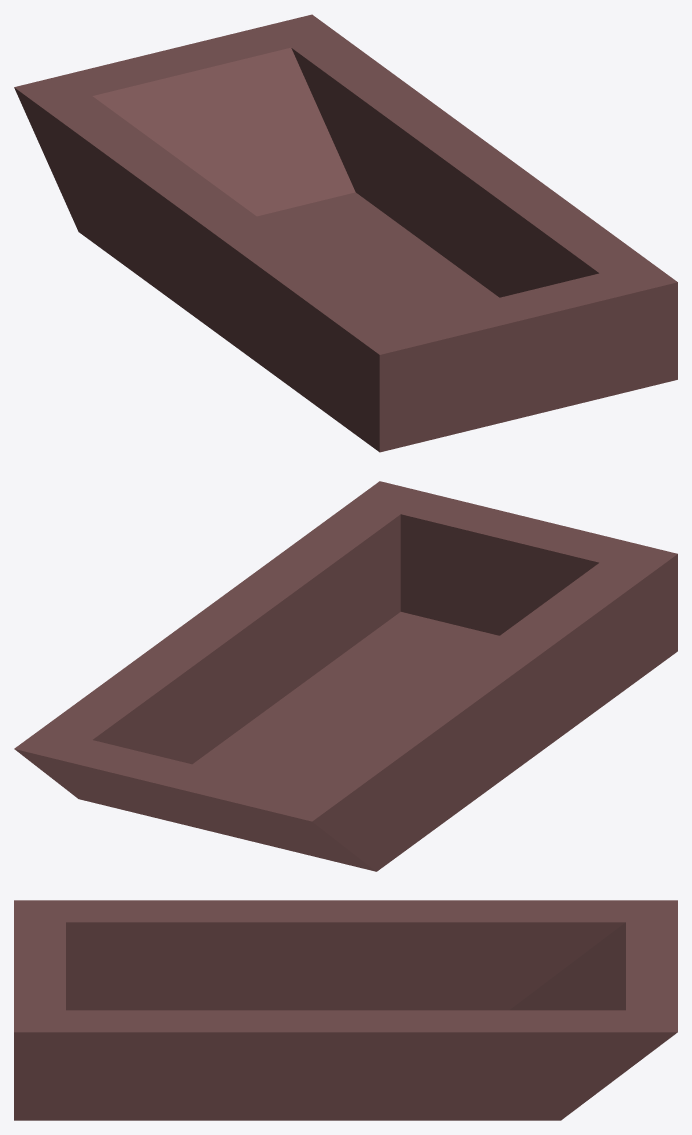
File: MyBoat.fbx
The picture shows the model from 3 angles, top to bottom: view 1: azimuth 30°, elevation 25°; view 2: azimuth 150°, elevation 25°; view 3: azimuth 270°, elevation 25°; orthographic projection. The views are drawn at different scales.
Visible parts, largest first — view 1: cuboid; view 2: cuboid; view 3: cuboid.
Boxes of the visible parts, x1=… form: cuboid: x1=14, y1=14, x2=677, y2=452; cuboid: x1=14, y1=481, x2=677, y2=871; cuboid: x1=14, y1=900, x2=677, y2=1120.
Bounding box in the file's own units: 50 × 15.62 × 106.
1 material, 1 textured.
